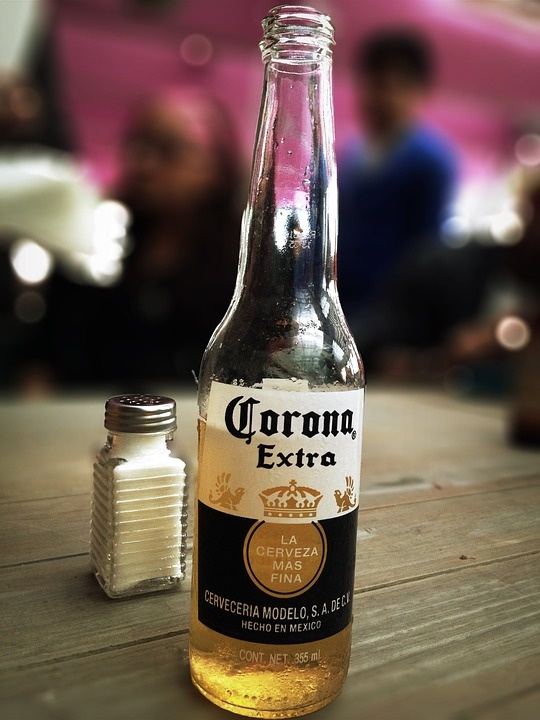beerBottle: (198, 30, 357, 706)
